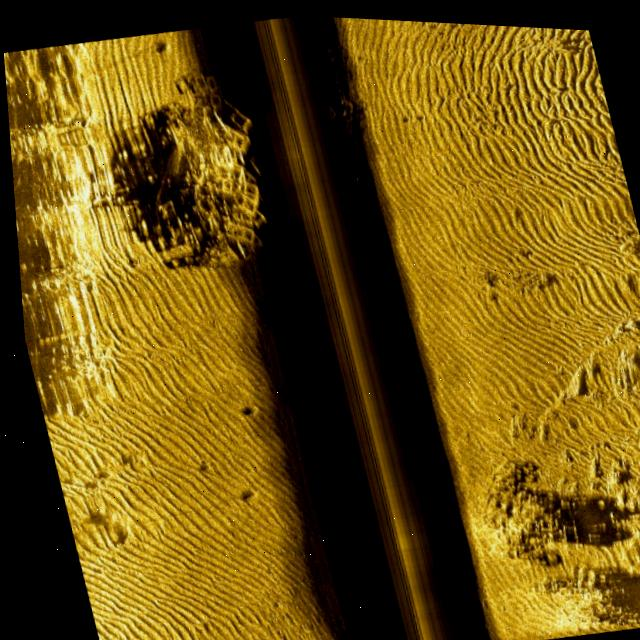artificial reef: (111, 38, 287, 274), (304, 32, 362, 167)
